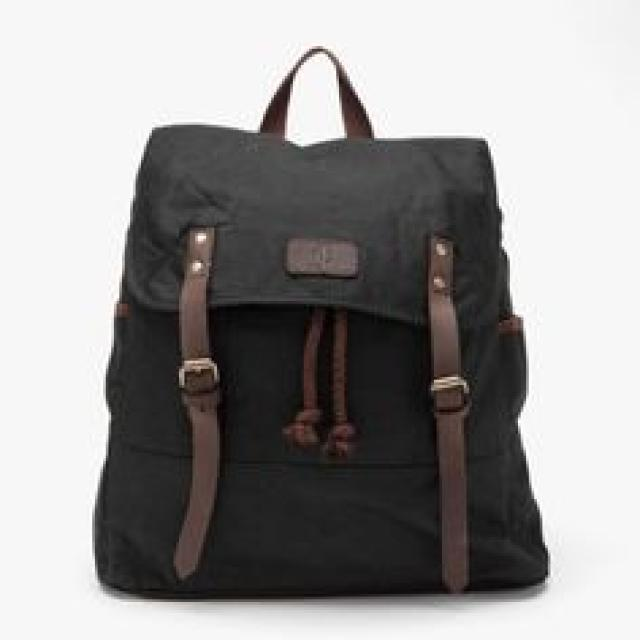backpack: (91, 45, 552, 601)
